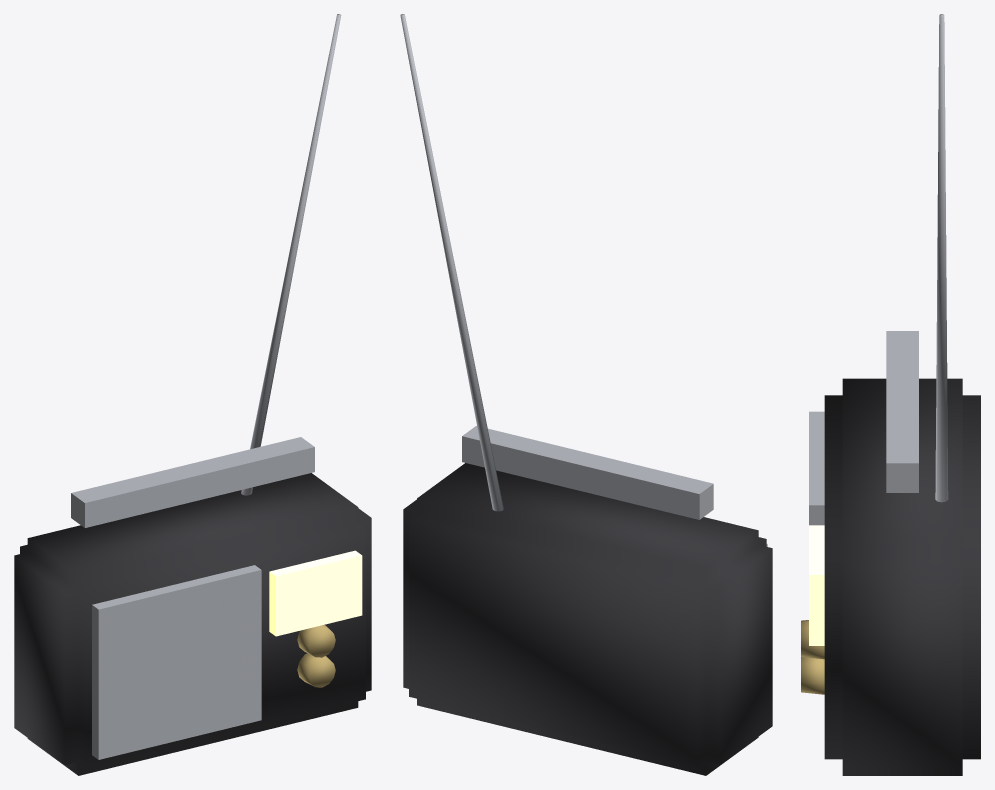
The model's file is transistor_radio.glb.
The picture shows the model from 3 angles, left to right: view 1: azimuth 30°, elevation 25°; view 2: azimuth 150°, elevation 25°; view 3: azimuth 270°, elevation 25°; orthographic projection. The views are drawn at different scales.
Visible parts, largest first — view 1: RadioCase, SpeakerGrille, HandleBar, TunerWindow, WhipAntenna, Knob_0.06, Knob_0.09; view 2: RadioCase, HandleBar, WhipAntenna; view 3: RadioCase, HandleBar, WhipAntenna, TunerWindow, SpeakerGrille, Knob_0.06, Knob_0.09.
Boxes of the visible parts, x1,y1,x2,y2 form: RadioCase: [14, 473, 371, 775]; SpeakerGrille: [92, 565, 261, 759]; HandleBar: [71, 437, 314, 527]; TunerWindow: [269, 550, 362, 636]; WhipAntenna: [241, 14, 341, 495]; Knob_0.06: [297, 653, 335, 687]; Knob_0.09: [297, 624, 335, 657]; RadioCase: [403, 463, 772, 775]; HandleBar: [462, 426, 713, 519]; WhipAntenna: [400, 14, 503, 511]; RadioCase: [824, 378, 980, 775]; HandleBar: [886, 331, 918, 492]; WhipAntenna: [935, 14, 948, 502]; TunerWindow: [809, 525, 824, 645]; SpeakerGrille: [809, 411, 824, 525]; Knob_0.06: [801, 657, 824, 694]; Knob_0.09: [801, 620, 824, 659].
Bounding box in the file's own units: 0.3319 × 0.6552 × 0.138.
